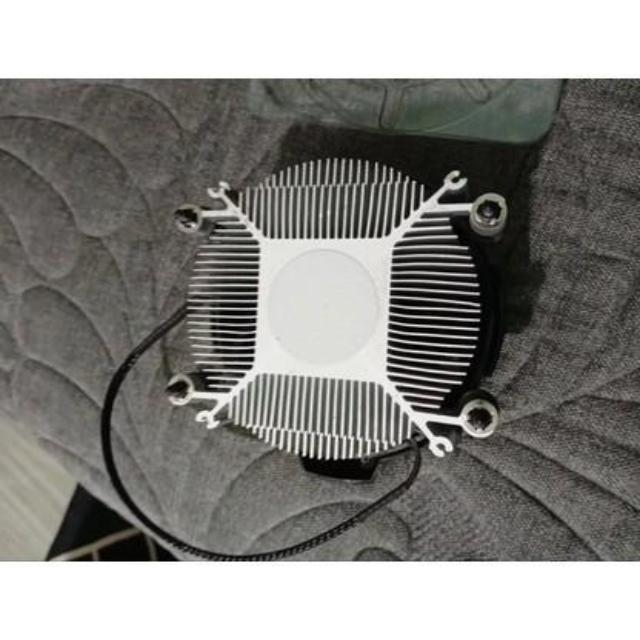CPU_Fan: (167, 148, 505, 466)
